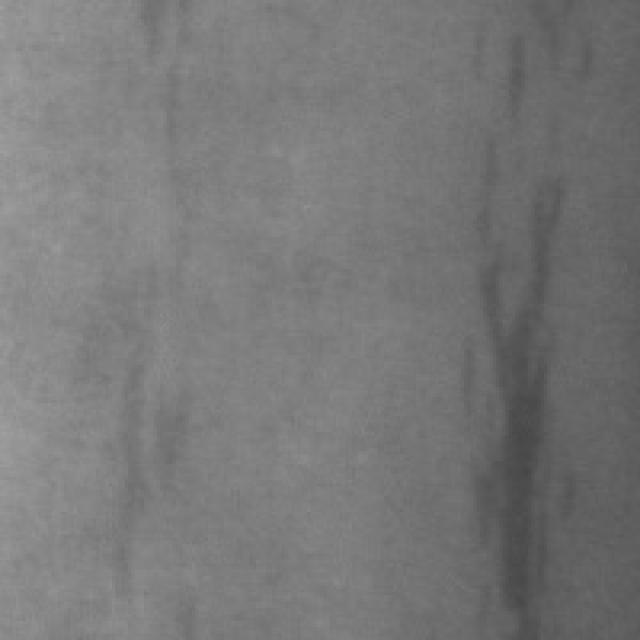inclusion: (448, 112, 582, 634), (102, 336, 176, 582), (486, 13, 544, 131)
